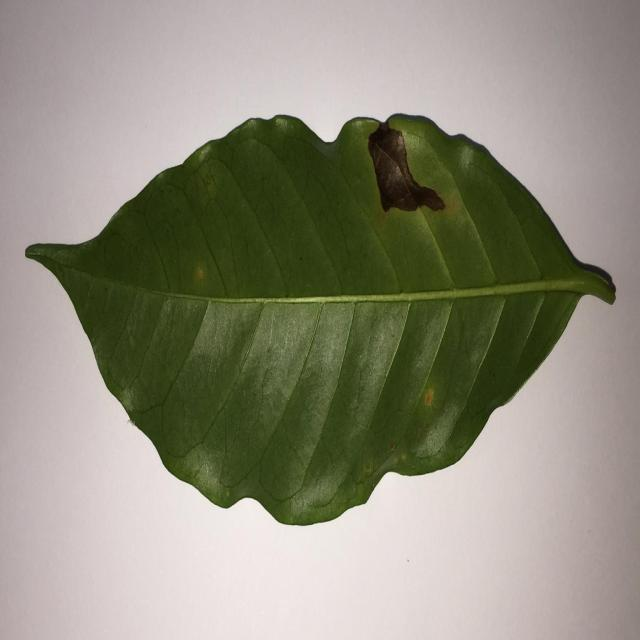Plaga-Minador: (23, 115, 618, 529)
